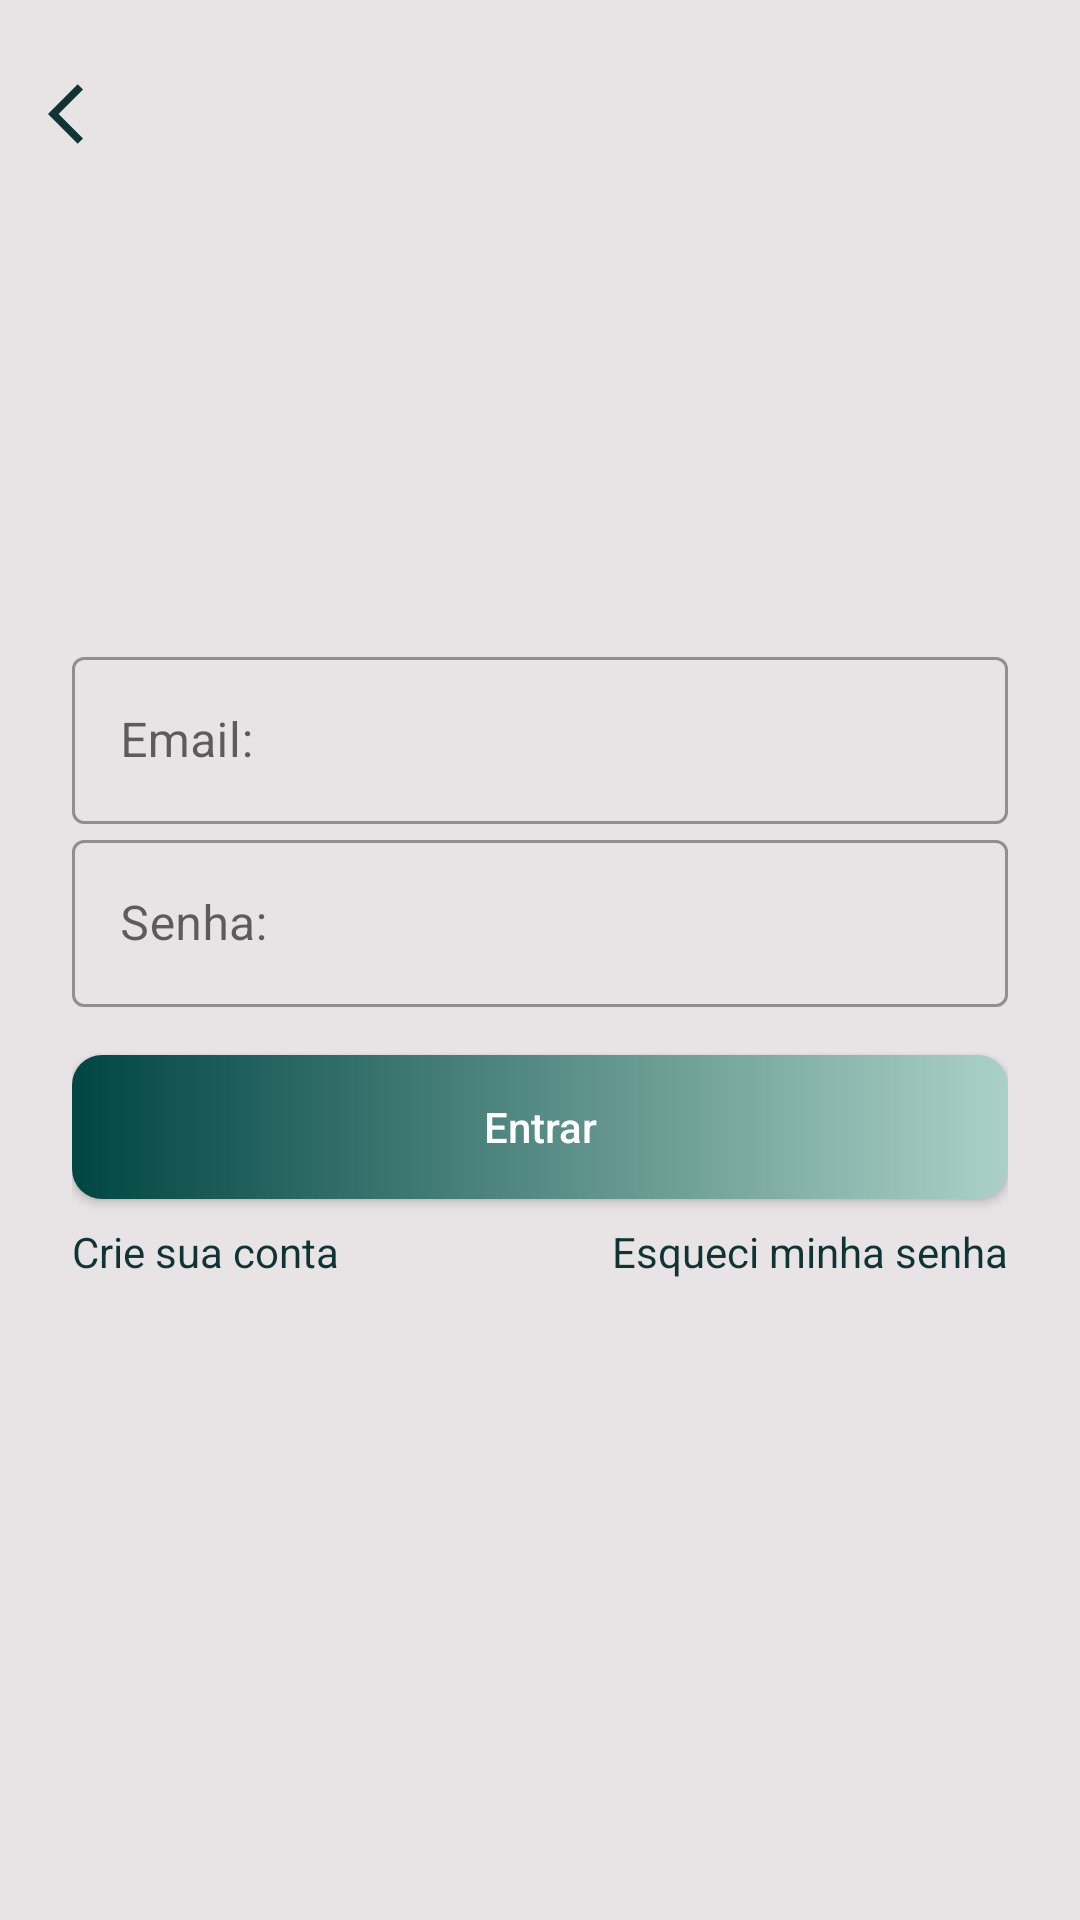

Where to tap for icons on this 1080x1920 app screen, as [x,y]:
voltar: [65,114]
